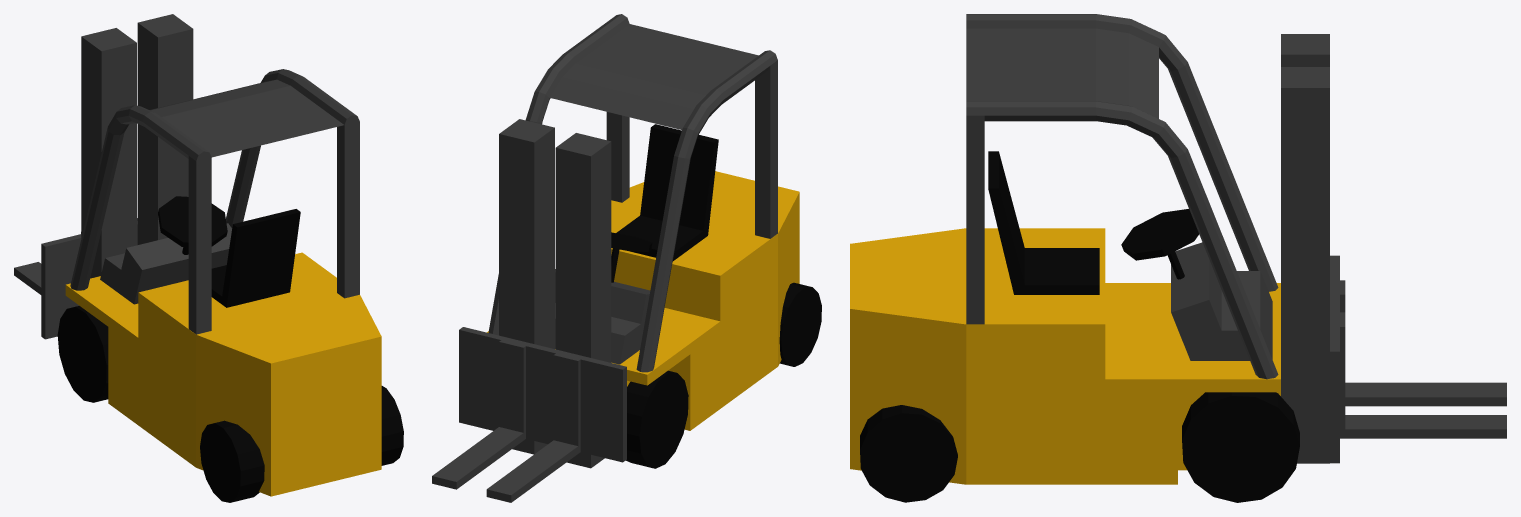
Rendered from Muletto.fbx.
3 views of the same model, side by side, from view 1: azimuth 30°, elevation 25°; view 2: azimuth 150°, elevation 25°; view 3: azimuth 270°, elevation 25° (orthographic). The views are drawn at different scales.
Visible parts, largest first — view 1: Struttura_muletto, Ruote_posteriori, Ruote_anteriori; view 2: Struttura_muletto, Ruote_anteriori, Ruote_posteriori; view 3: Struttura_muletto, Ruote_anteriori, Ruote_posteriori.
Boxes of the visible parts, left/top/right/bottom form: Struttura_muletto: left=14, top=14, right=381, bottom=496; Ruote_posteriori: left=200, top=386, right=403, bottom=502; Ruote_anteriori: left=57, top=306, right=108, bottom=402; Struttura_muletto: left=432, top=14, right=799, bottom=502; Ruote_anteriori: left=626, top=370, right=688, bottom=468; Ruote_posteriori: left=779, top=282, right=821, bottom=366; Struttura_muletto: left=850, top=14, right=1506, bottom=484; Ruote_anteriori: left=1182, top=392, right=1299, bottom=502; Ruote_posteriori: left=860, top=405, right=957, bottom=502.
Bounding box in the file's own units: 116 × 223 × 334.
